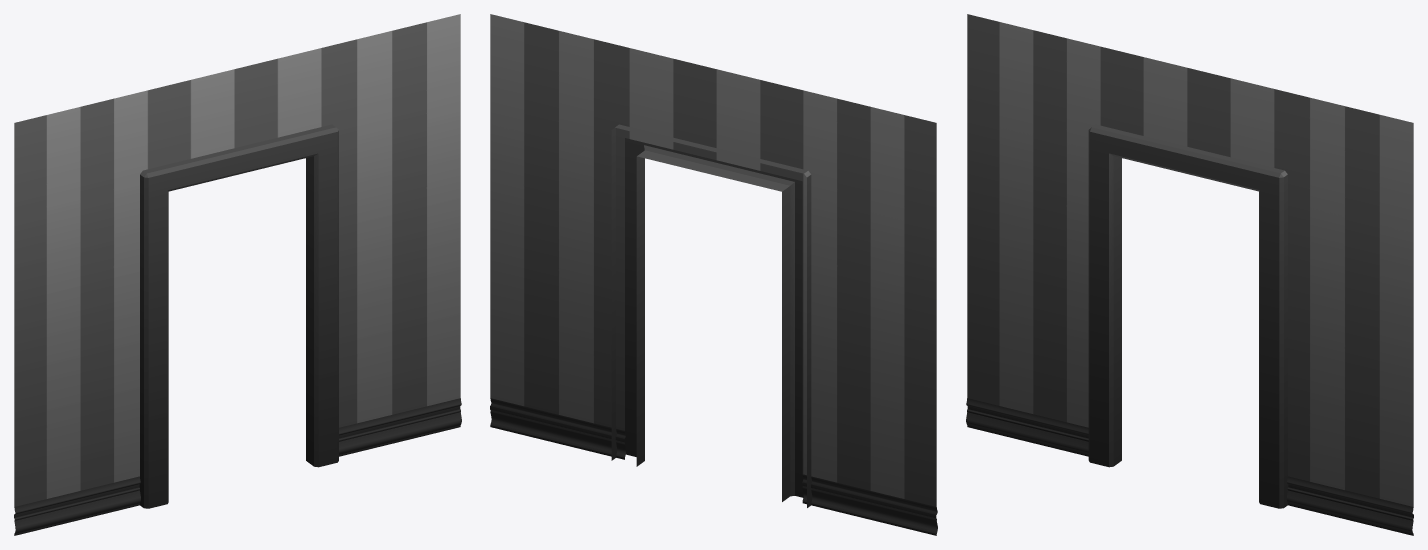
Rendered from Wall_03_Door.fbx.
3 views of the same model, side by side, from view 1: azimuth 30°, elevation 25°; view 2: azimuth 150°, elevation 25°; view 3: azimuth 330°, elevation 25° (orthographic).
Visible parts, largest first — view 1: Wall_3_Door; view 2: Wall_3_Door; view 3: Wall_3_Door.
Part boxes in pixels (left/top/right/bottom): Wall_3_Door: left=14, top=14, right=461, bottom=535; Wall_3_Door: left=490, top=14, right=937, bottom=535; Wall_3_Door: left=966, top=14, right=1413, bottom=535.
Size of the model in its own units: 3 by 2.65 by 0.1165.
